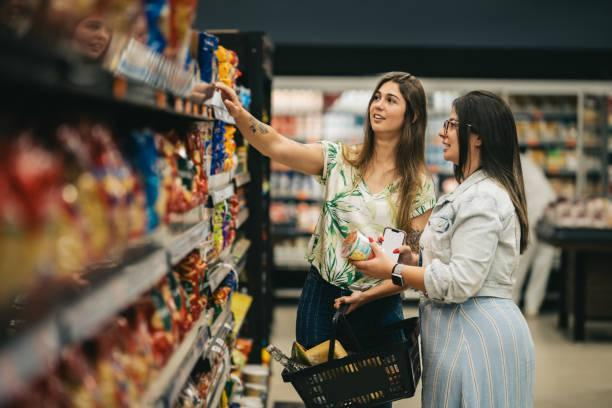Person: (217, 72, 435, 346), (394, 91, 533, 407), (395, 91, 533, 407)
article: (267, 345, 306, 372), (200, 32, 217, 81), (343, 230, 368, 260)
cage: (283, 318, 420, 407)
